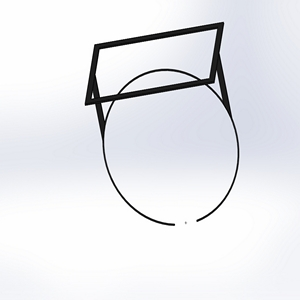circle: (83, 20, 241, 228)
